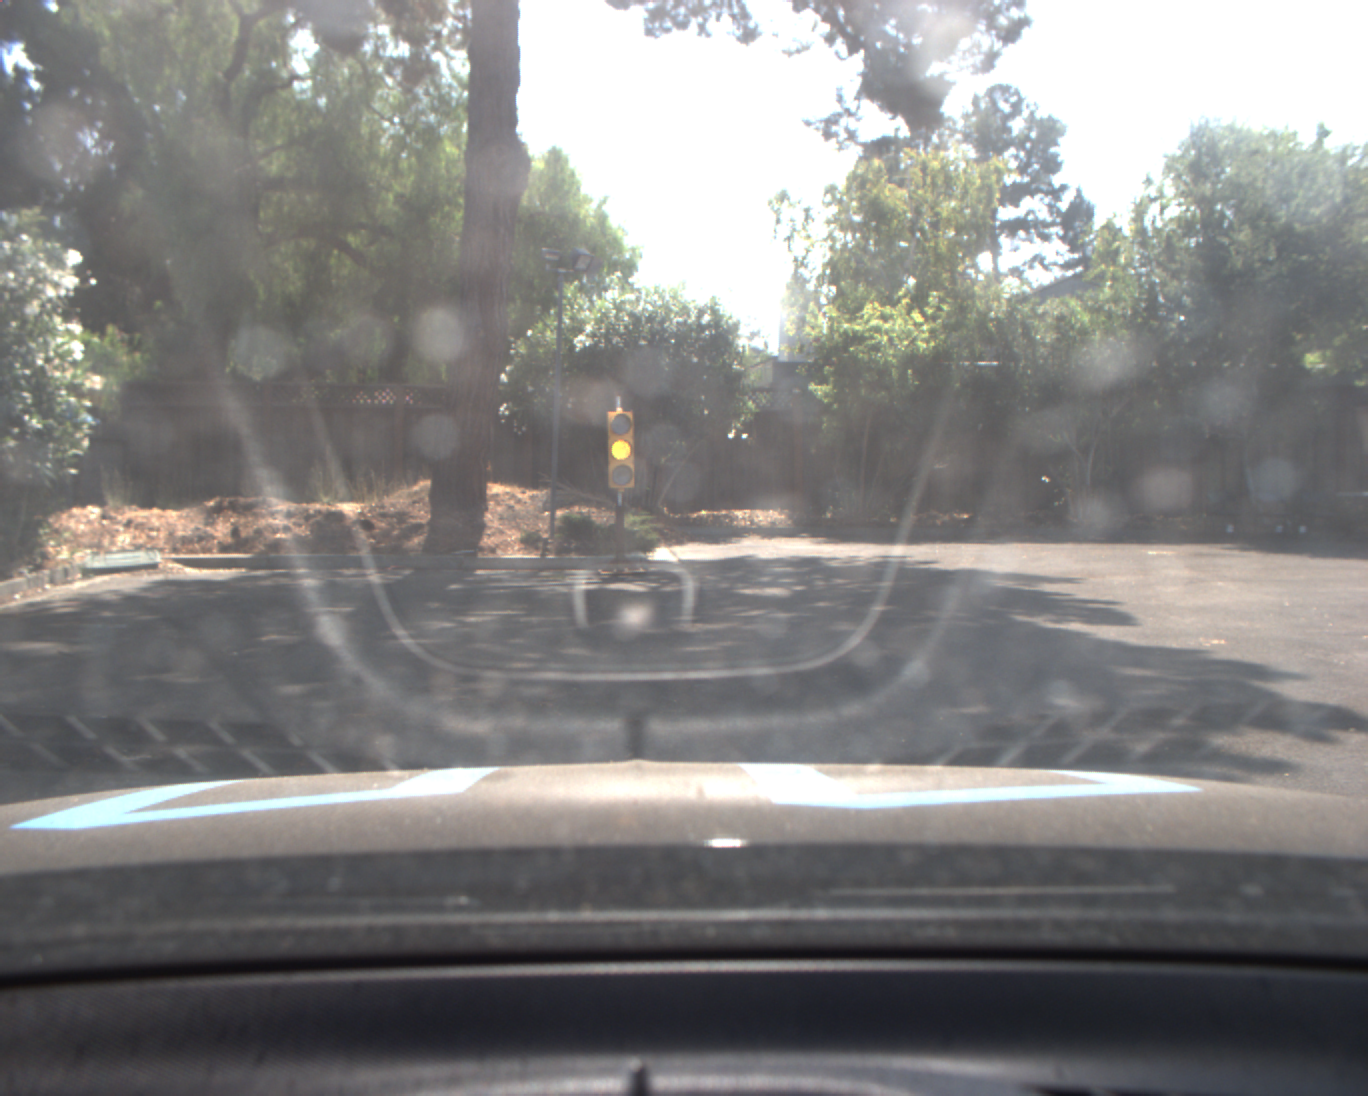yellow: (605, 406, 639, 492)
